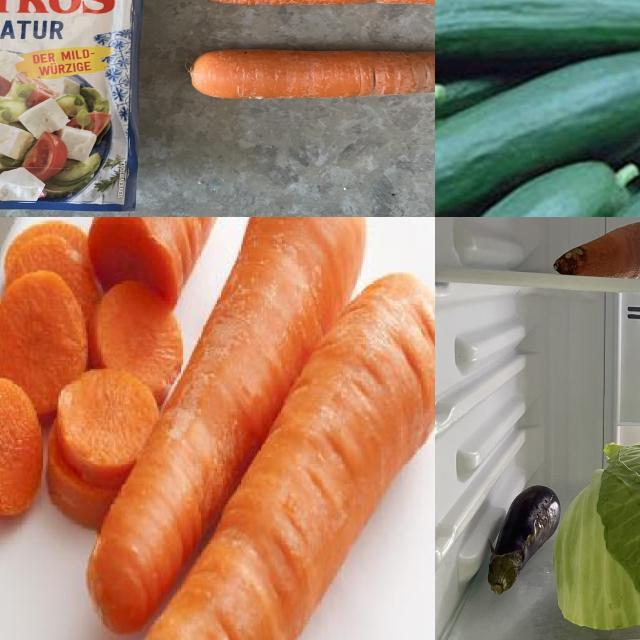cabbage: (558, 439, 640, 635)
carrot: (107, 270, 436, 640), (87, 218, 372, 633), (182, 45, 436, 107), (88, 218, 236, 303), (174, 1, 436, 22), (551, 220, 640, 279)
cucumber: (436, 43, 640, 218), (436, 1, 640, 78), (436, 154, 640, 218), (436, 162, 635, 218)
eggplant: (489, 482, 561, 607)
